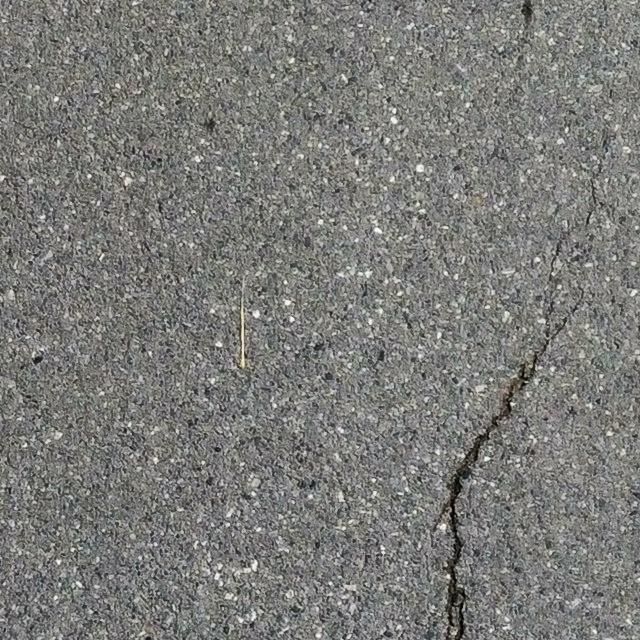LongitudinalCrack: (441, 292, 583, 640)
